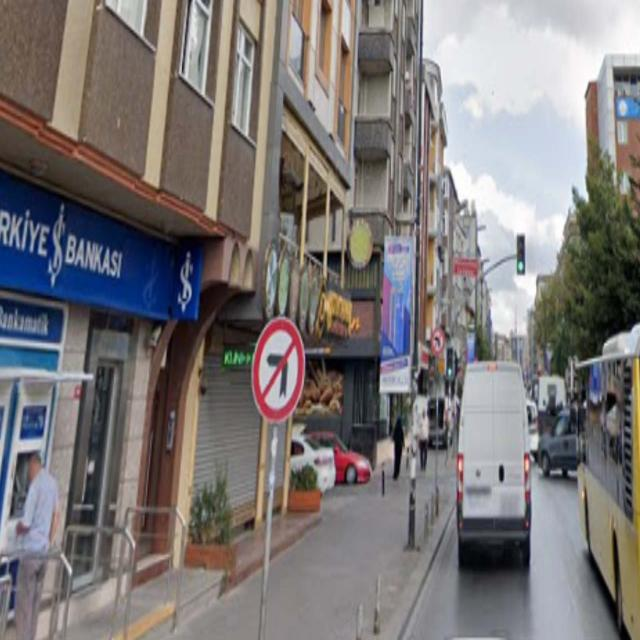soladonulmez: (250, 319, 302, 420)
